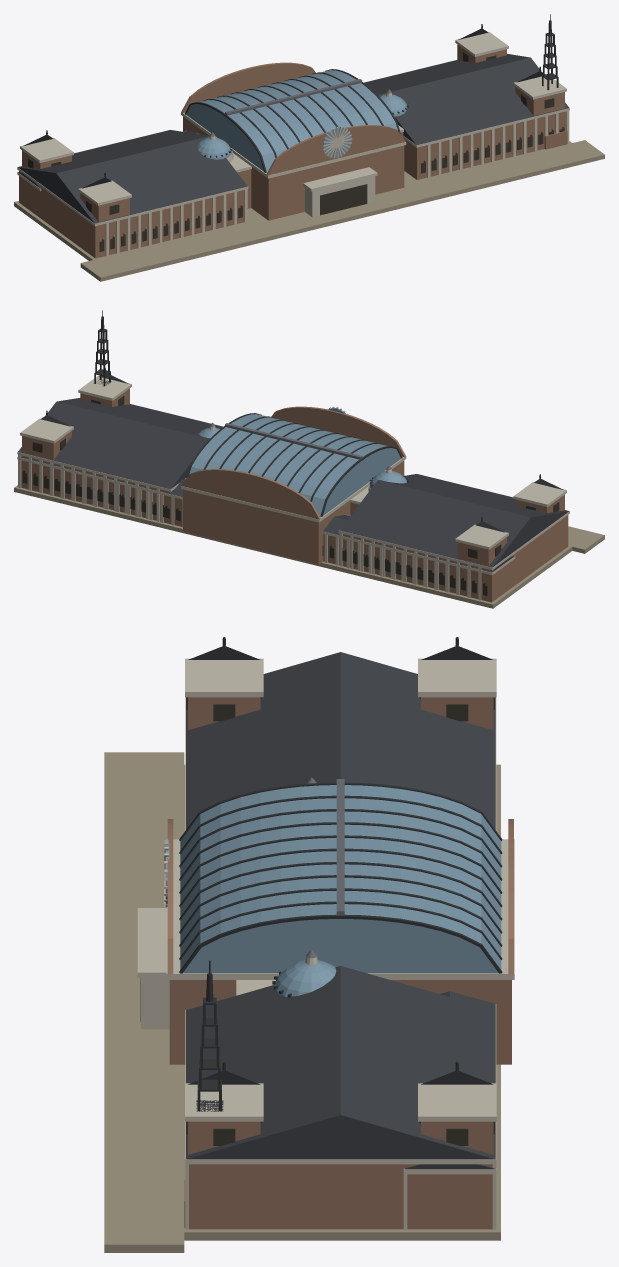
File: alexandra_palace.glb
3 renders of one model, top to bottom at view 1: azimuth 30°, elevation 25°; view 2: azimuth 150°, elevation 25°; view 3: azimuth 270°, elevation 25°, orthographic. The views are drawn at different scales.
Visible parts, largest first — view 1: alexandra_palace; view 2: alexandra_palace; view 3: alexandra_palace.
Boxes of the visible parts, bbox=[...] form: alexandra_palace: bbox=[14, 14, 604, 281]; alexandra_palace: bbox=[14, 310, 604, 608]; alexandra_palace: bbox=[104, 637, 514, 1252].
Size of the model in its own units: 320 by 80.1 by 113.
